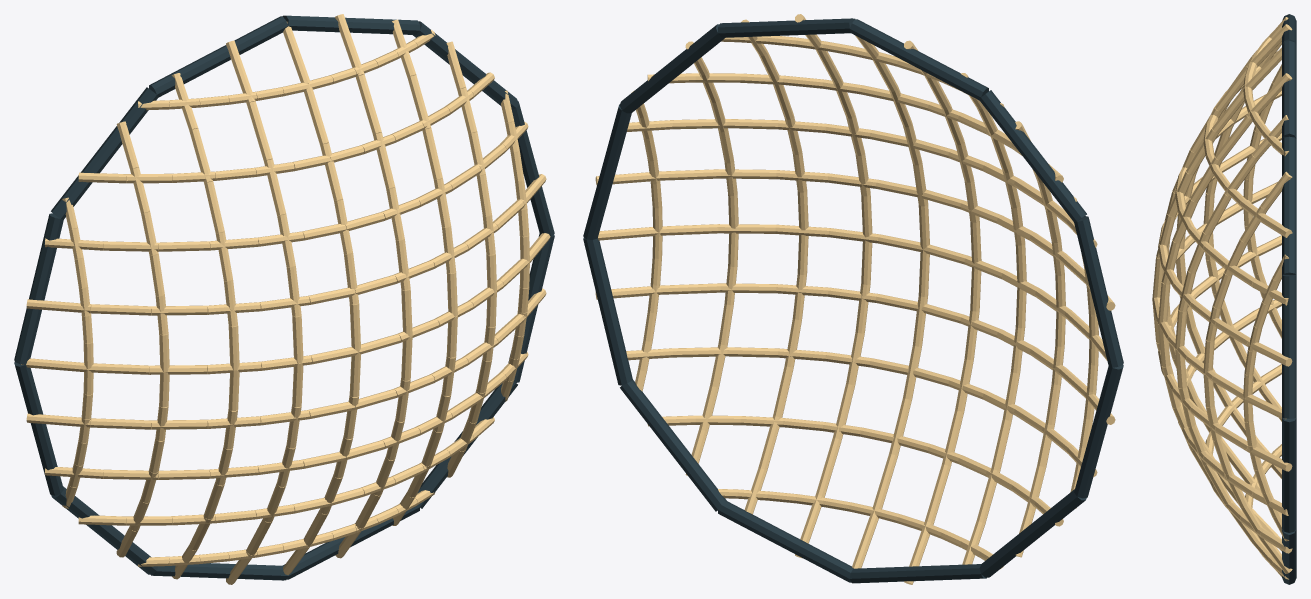
Rendered from thrown-net.glb.
3 views of the same model, side by side, from view 1: azimuth 30°, elevation 25°; view 2: azimuth 150°, elevation 25°; view 3: azimuth 270°, elevation 25° (orthographic). The views are drawn at different scales.
Parts seen in each view (by area): view 1: Net weighted rim.005, Net weighted rim.003, Net weighted rim.004, Net weighted rim.006, Net weighted rim.002, Net weighted rim.008, Net weighted rim, Net weighted rim.007, Net weighted rim.001, Net weighted rim.009, Net weighted rim.010, Net weighted rim.011; view 2: Net weighted rim.010, Net weighted rim.004, Net weighted rim.005, Net weighted rim.011, Net weighted rim.003, Net weighted rim.009, Net weighted rim.006, Net weighted rim.002, Net weighted rim.008, Net weighted rim, Net weighted rim.007, Net weighted rim.001; view 3: Net weighted rim, Net weighted rim.001, Net weighted rim.011, Net weighted rim.002, Net weighted rim.010, Thrown net cord.070, Thrown net cord.071, Thrown net cord.058, Thrown net cord.059, Thrown net cord.047, Thrown net cord.179, Thrown net cord.046 (+75 smaller).
Part boxes in pixels (x1,y1,x2,y2): Net weighted rim.005: (14, 213, 63, 364); Net weighted rim.003: (149, 16, 288, 97); Net weighted rim.004: (51, 87, 158, 219); Net weighted rim.006: (14, 362, 63, 495); Net weighted rim.002: (282, 15, 419, 34); Net weighted rim.008: (151, 563, 288, 580); Net weighted rim: (512, 101, 554, 236); Net weighted rim.007: (51, 486, 157, 574); Net weighted rim.001: (413, 21, 518, 109); Net weighted rim.009: (283, 505, 419, 579); Net weighted rim.010: (417, 382, 517, 508); Net weighted rim.011: (508, 234, 554, 382); Net weighted rim.010: (620, 379, 726, 511); Net weighted rim.004: (979, 90, 1086, 222); Net weighted rim.005: (1074, 216, 1123, 367); Net weighted rim.011: (583, 237, 632, 385); Net weighted rim.003: (849, 19, 988, 100); Net weighted rim.009: (718, 501, 853, 582); Net weighted rim.006: (1074, 365, 1123, 498); Net weighted rim.002: (718, 18, 854, 37); Net weighted rim.008: (849, 564, 986, 583); Net weighted rim: (583, 104, 631, 239); Net weighted rim.007: (979, 489, 1086, 577); Net weighted rim.001: (619, 24, 725, 113); Net weighted rim: (1282, 275, 1296, 418); Net weighted rim.001: (1282, 136, 1296, 274); Net weighted rim.011: (1282, 417, 1296, 532); Net weighted rim.002: (1282, 40, 1296, 138); Net weighted rim.010: (1282, 528, 1296, 584); Thrown net cord.070: (1215, 115, 1252, 161); Thrown net cord.071: (1247, 73, 1292, 119); Thrown net cord.058: (1212, 86, 1245, 133); Thrown net cord.059: (1245, 47, 1281, 90); Thrown net cord.047: (1247, 24, 1292, 67); Thrown net cord.179: (1247, 339, 1292, 366); Thrown net cord.046: (1215, 66, 1247, 112).
Bounding box in the file's own units: 2.77 × 2.77 × 0.6969.
